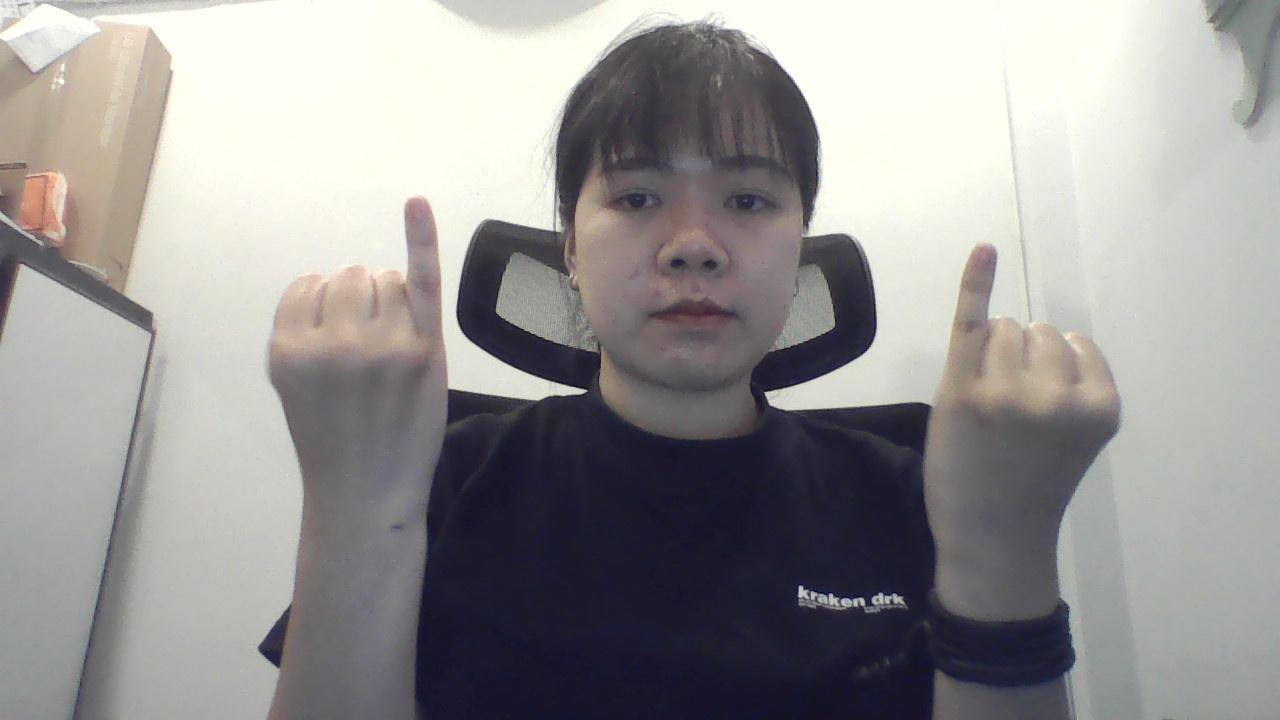I: (252, 172, 467, 574), (916, 229, 1122, 612)
